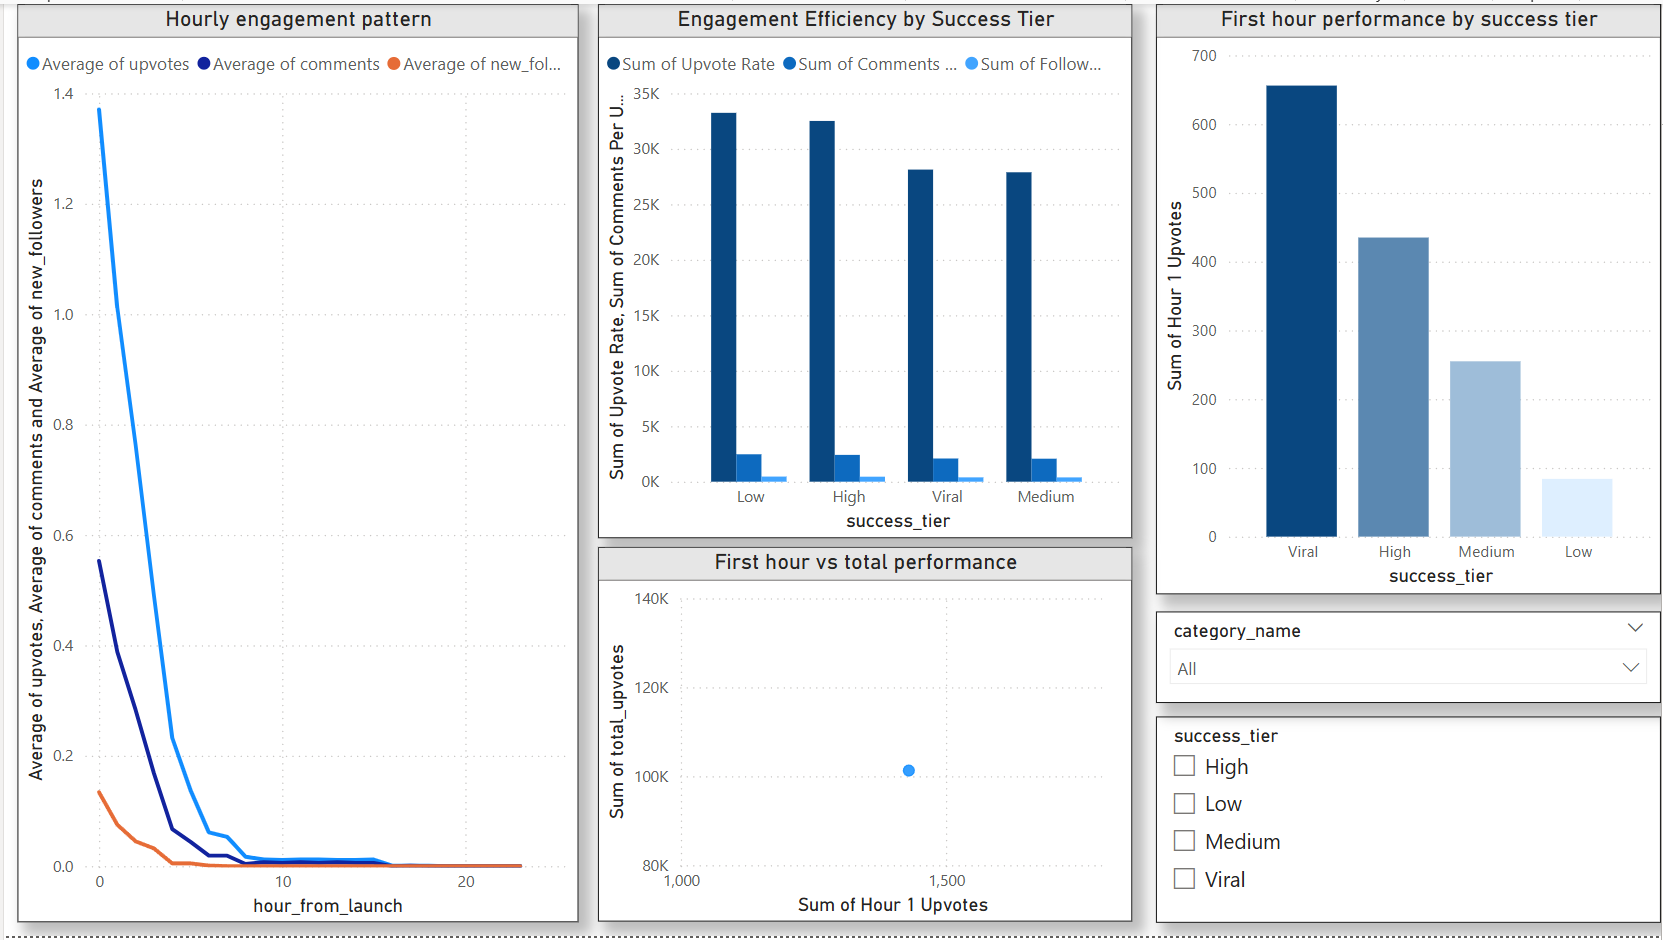

This screenshot's page, from the dashboard's own definition file:
{"tool":"powerbi","page":{"name":"ENGAGEMENT METRIC","canvas":[1280,720],"ordinal":3},"visuals":[{"type":"lineChart","title":"Hourly engagement pattern","fields":{"Y":["Avg(engagement_metrics.upvotes)","Avg(engagement_metrics.comments)","Avg(engagement_metrics.new_followers)"],"Category":["engagement_metrics.hour_from_launch"]},"box":[10.8,0,433,709.4],"z":0},{"type":"clusteredColumnChart","title":"First hour performance by success tier","fields":{"Category":["engagement_metrics.success_tier"],"Y":["Sum(engagement_metrics.Hour 1 Upvotes)"]},"box":[890,0,390,455.8],"z":1000},{"type":"clusteredColumnChart","title":"Engagement Efficiency by Success Tier","fields":{"Category":["engagement_metrics.success_tier"],"Y":["Sum(engagement_metrics.Upvote Rate)","Sum(engagement_metrics.Comments Per Upvote)","Sum(engagement_metrics.Followers Per Upvote)"]},"box":[459.4,0,412.7,412.7],"z":2000},{"type":"scatterChart","title":"First hour vs total performance","fields":{"X":["Sum(engagement_metrics.Hour 1 Upvotes)"],"Y":["Sum(engagement_metrics.total_upvotes)"]},"box":[459.4,419.9,412.7,289.5],"z":3000},{"type":"slicer","fields":{"Values":["engagement_metrics.success_tier"]},"box":[890,550.3,390,159.1],"z":3001},{"type":"slicer","fields":{"Values":["engagement_metrics.category_name"]},"box":[890,468.9,390,70.6],"z":3002}]}

Visuals, with their boxes in screenshot pixels (x1, y1, x2, y2), scaled from the page's 1280x720 canvas onto the 1663x940 screenshot:
"Hourly engagement pattern" lineChart: (x1=14, y1=0, x2=577, y2=926)
"First hour performance by success tier" clusteredColumnChart: (x1=1156, y1=0, x2=1662, y2=595)
"Engagement Efficiency by Success Tier" clusteredColumnChart: (x1=597, y1=0, x2=1133, y2=539)
"First hour vs total performance" scatterChart: (x1=597, y1=548, x2=1133, y2=926)
slicer - engagement_metrics.success_tier: (x1=1156, y1=718, x2=1662, y2=926)
slicer - engagement_metrics.category_name: (x1=1156, y1=612, x2=1662, y2=704)
